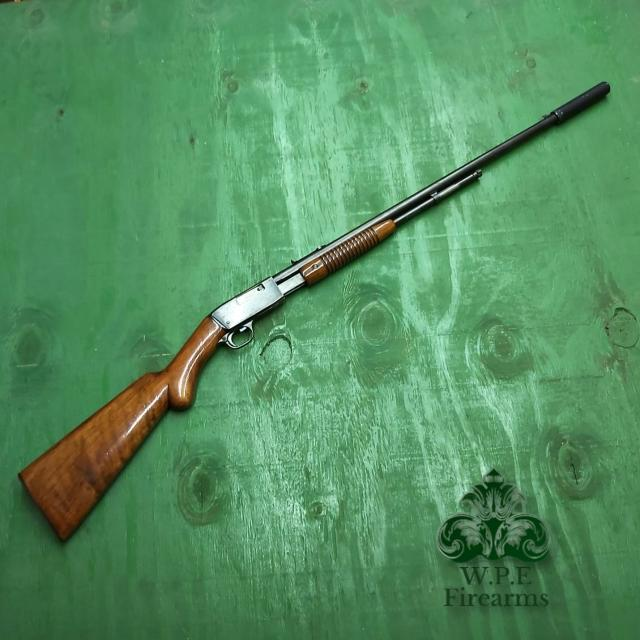ShotGun: (17, 85, 611, 545)
